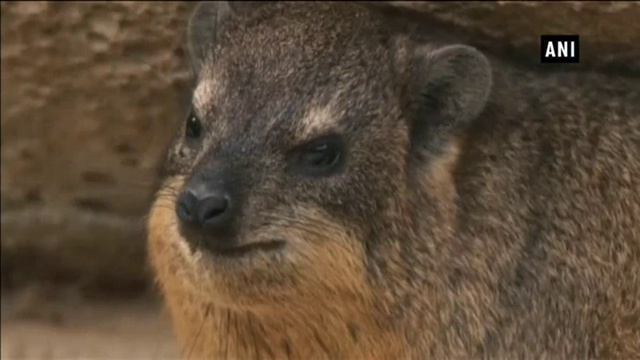Rock Hyrex: (147, 2, 640, 357)
